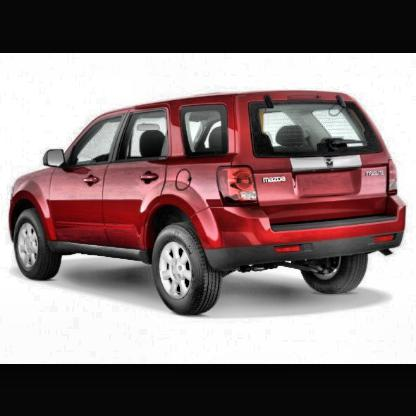Mazda Tribute SUV 2011: (10, 90, 409, 319)
